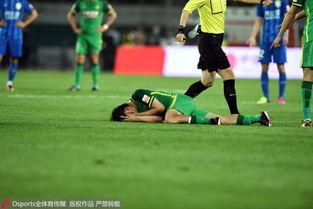down: (96, 77, 272, 128)
up: (178, 1, 241, 115), (278, 1, 313, 130), (65, 1, 113, 88), (254, 1, 291, 104), (1, 1, 37, 90)
